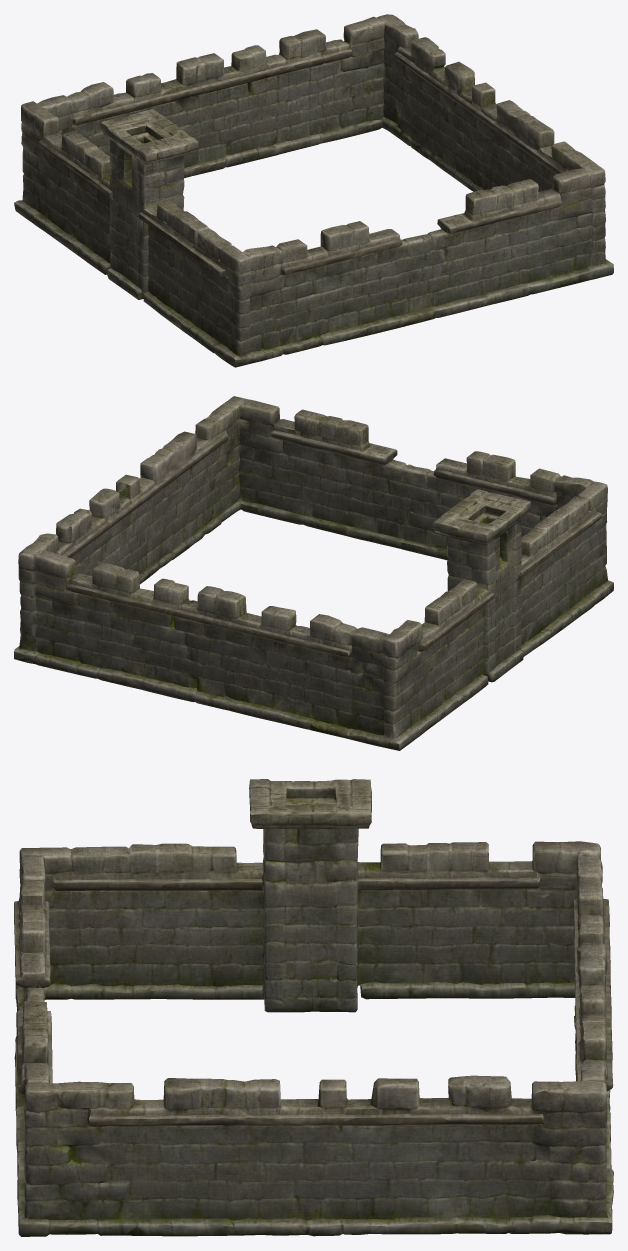
Rendered from wall.glb.
3 renders of one model, top to bottom at view 1: azimuth 30°, elevation 25°; view 2: azimuth 150°, elevation 25°; view 3: azimuth 270°, elevation 25°, orthographic. The views are drawn at different scales.
Parts seen in each view (by area): view 1: wall; view 2: wall; view 3: wall.
Boxes of the visible parts, x1=… form: wall: x1=14, y1=14, x2=613, y2=367; wall: x1=14, y1=396, x2=613, y2=750; wall: x1=14, y1=779, x2=613, y2=1236.
Bounding box in the file's own units: 1.2 × 0.4564 × 1.19.
1 material, 1 textured.
